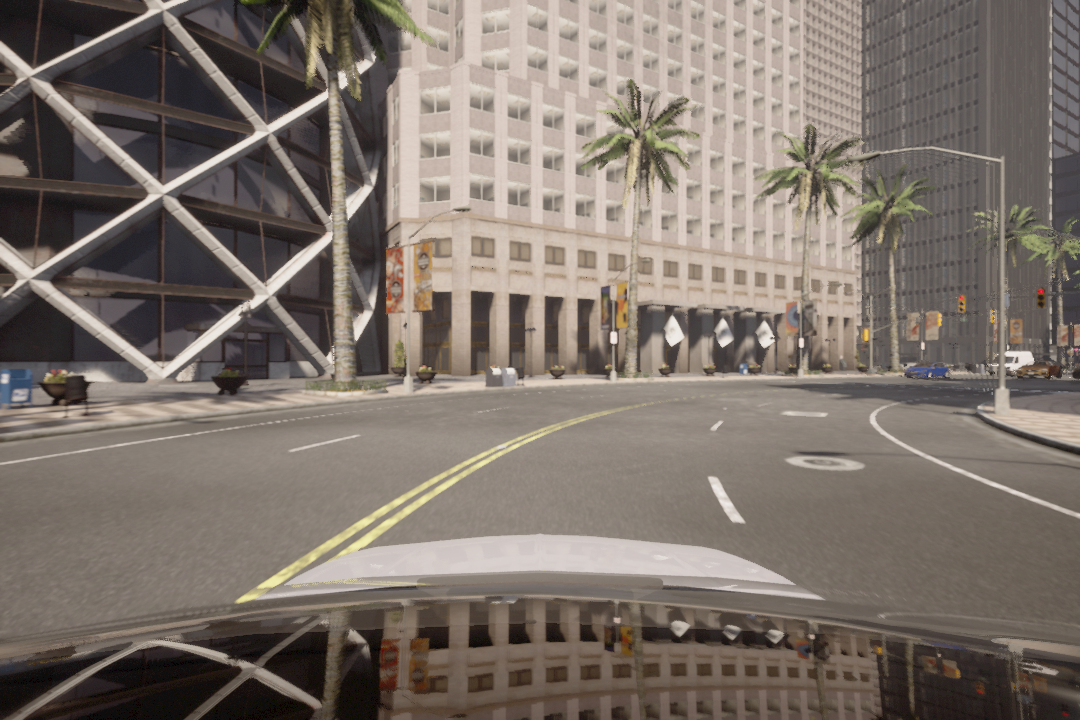TrafficLight: (1035, 287, 1045, 313), (956, 295, 967, 317)
